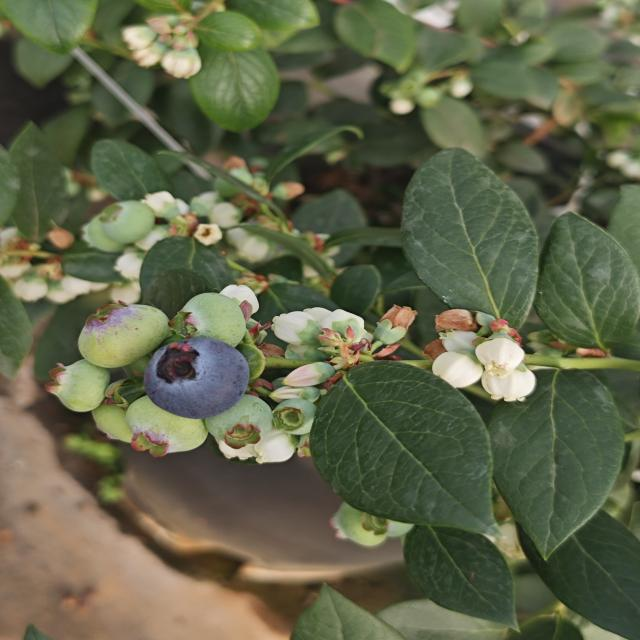ripe: (139, 330, 251, 423)
